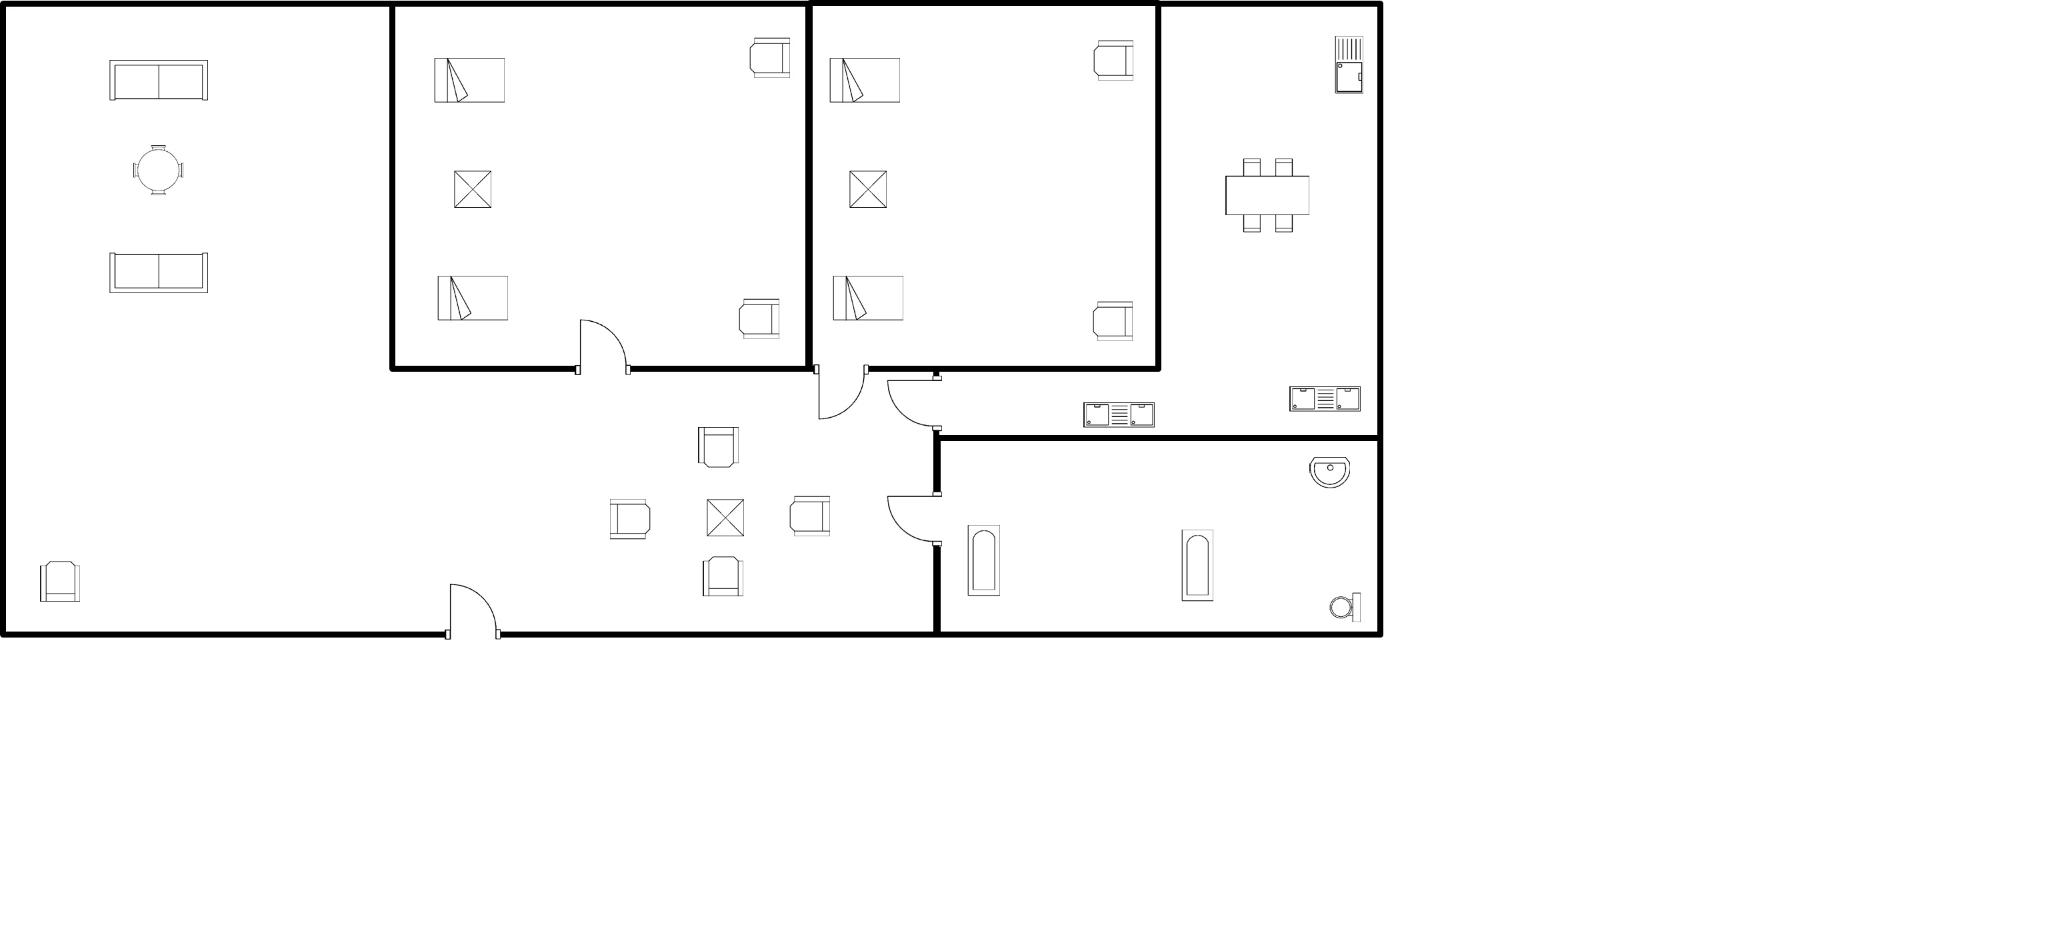sink: (1075, 396, 1161, 434), (1284, 380, 1366, 418)
